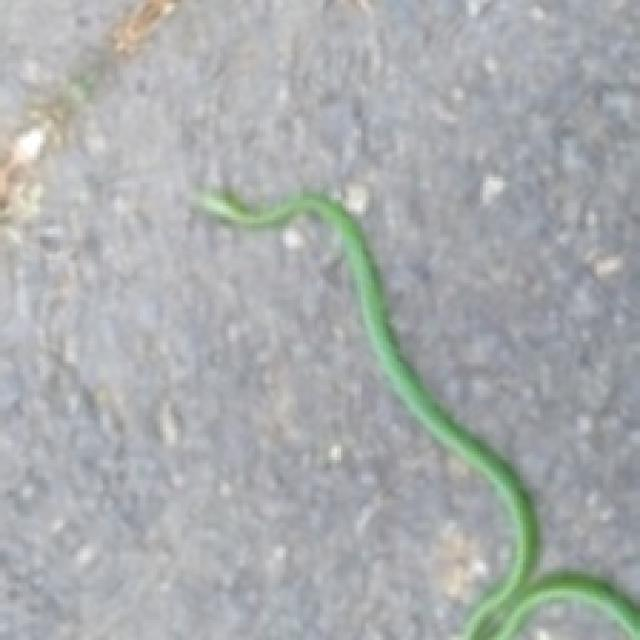red-tailed green ratsnake: (197, 189, 637, 637)
